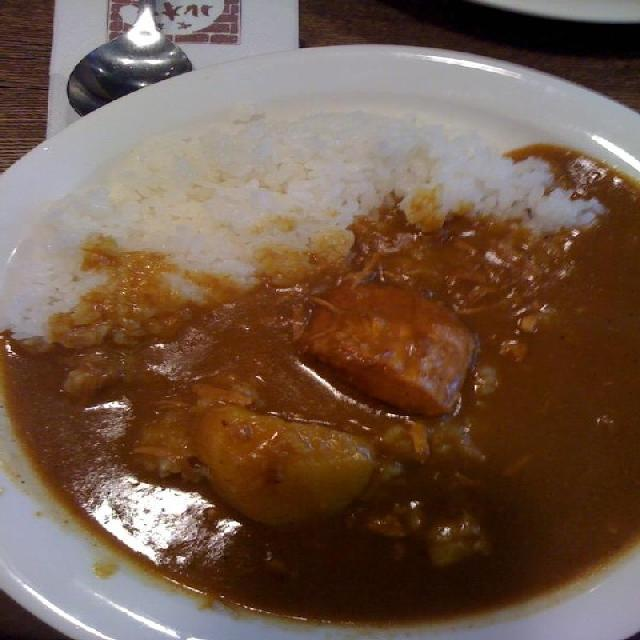Beef Curry: (17, 153, 640, 605)
